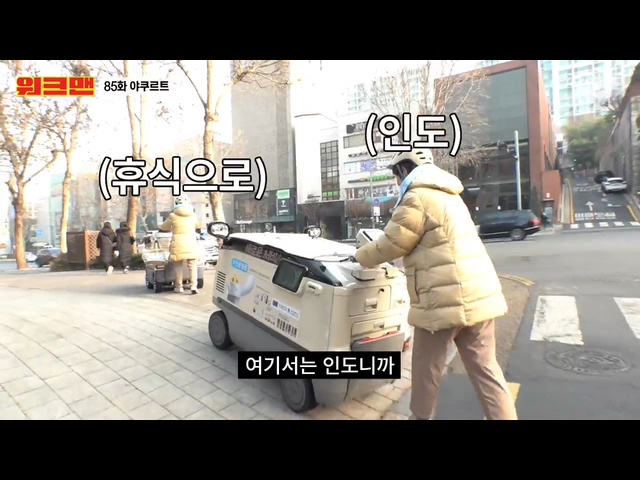Yakurut: (409, 155, 520, 421), (157, 199, 212, 293)
